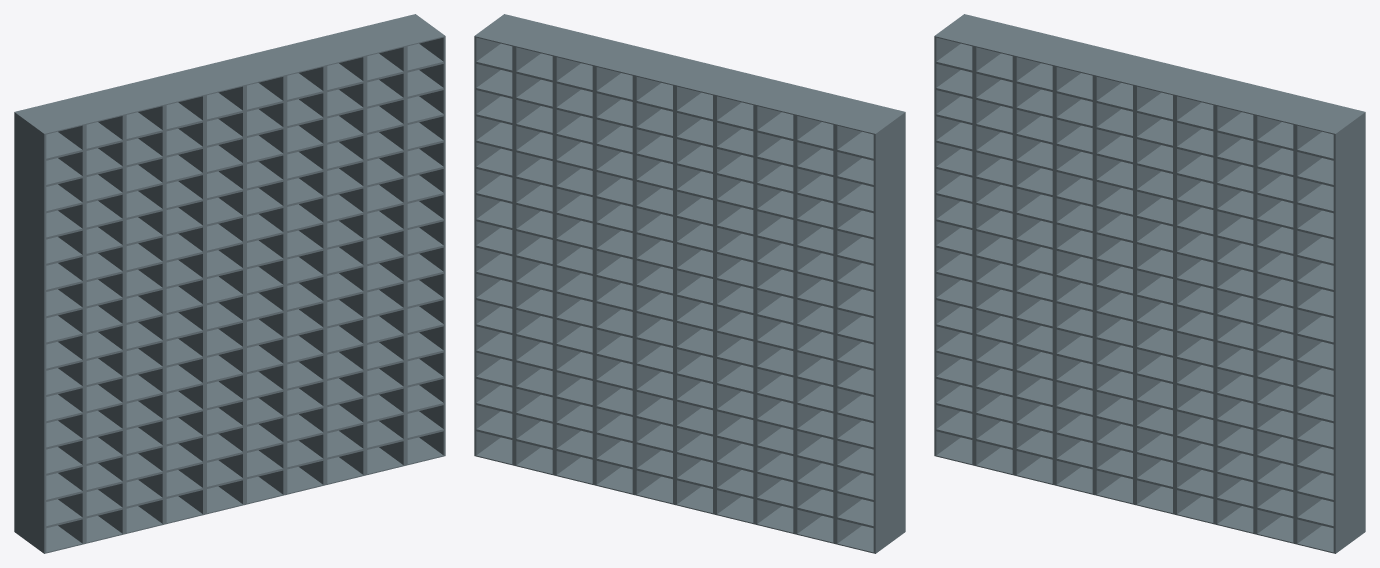
File: rejilla_sector.obj
3 renders of one model, left to right at view 1: azimuth 30°, elevation 25°; view 2: azimuth 150°, elevation 25°; view 3: azimuth 330°, elevation 25°, orthographic.
Parts seen in each view (by area): view 1: rejilla_sector; view 2: rejilla_sector; view 3: rejilla_sector.
Part boxes in pixels (x1,y1,x2,y2): rejilla_sector: (14,14,445,553); rejilla_sector: (474,14,905,553); rejilla_sector: (934,14,1365,553).
Bounding box in the file's own units: 2 × 2 × 0.26.
